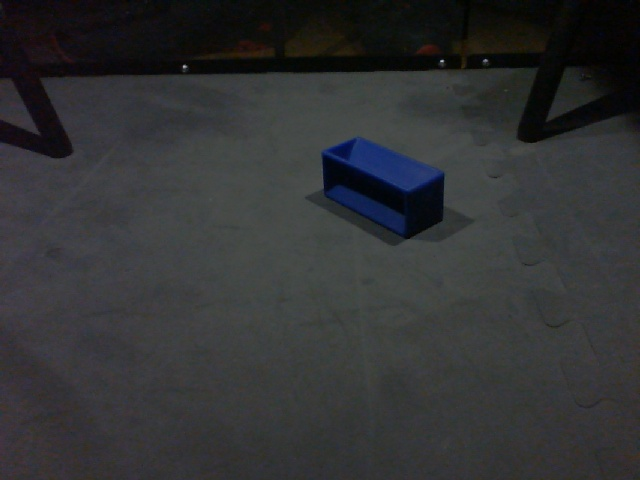BlueSample: (318, 133, 451, 242)
